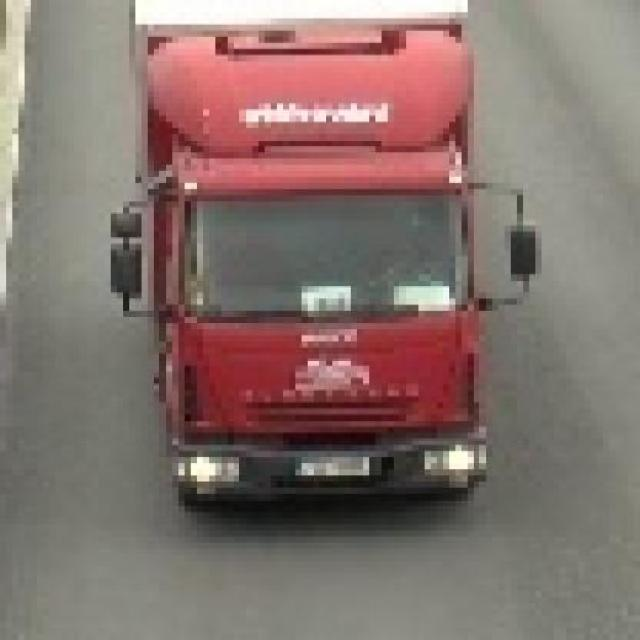truck: (118, 1, 543, 513)
